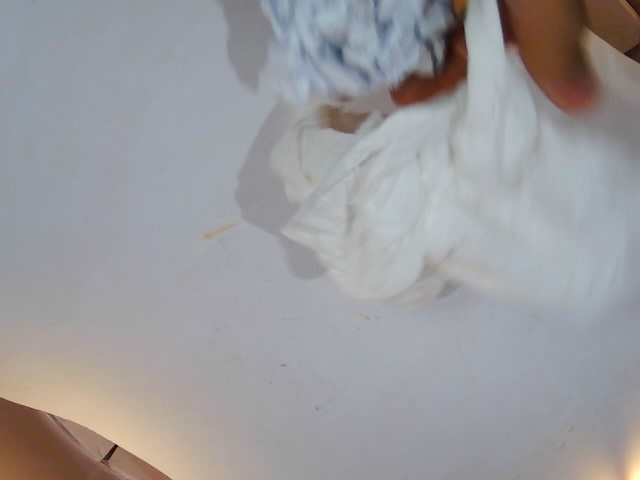tissue: (195, 0, 617, 327)
